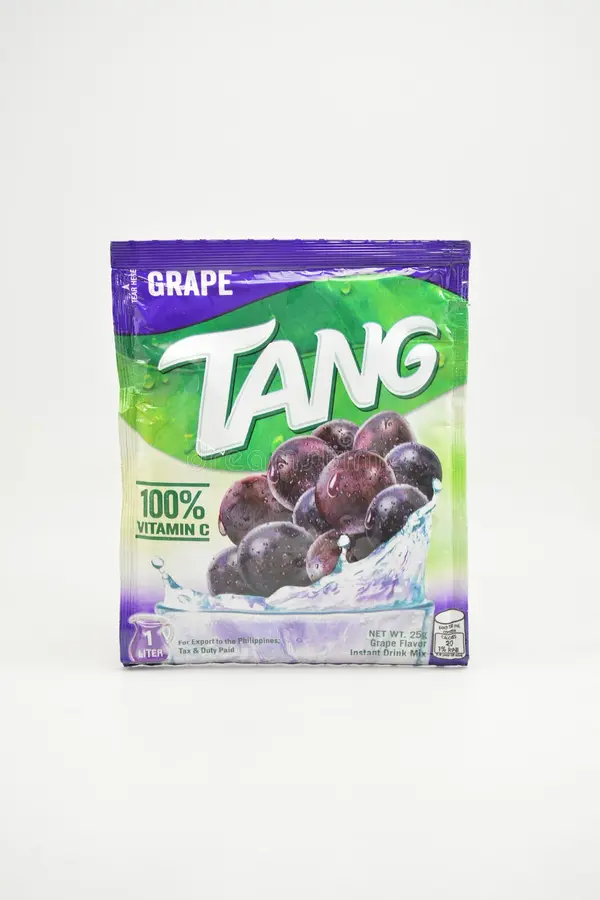non-toxic_waste: (113, 239, 474, 686)
